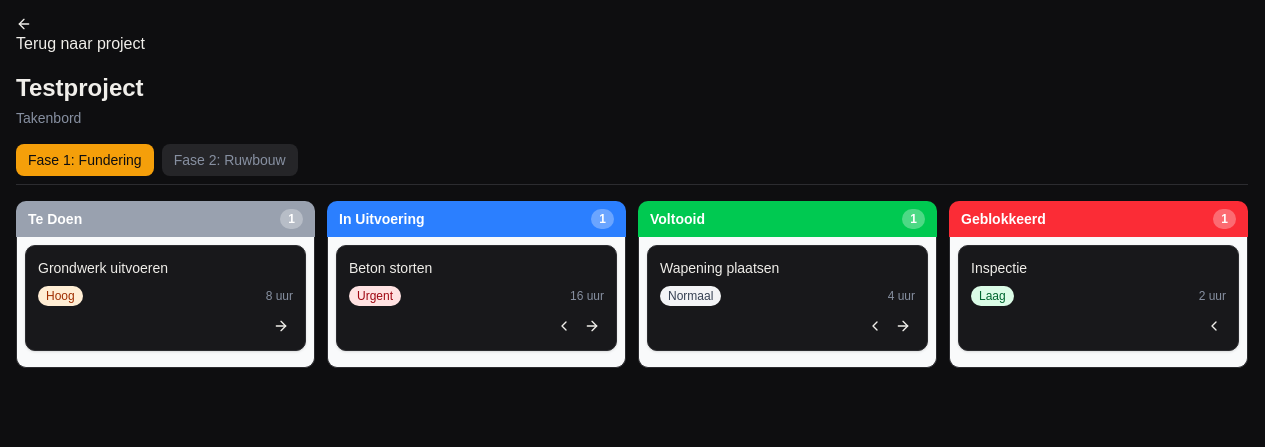
Test case: KanbanBoardPage › shows an error message when API move fails
Check: the text "Grondwerk uitvoeren" is shown, box [38, 260, 168, 276]
Click the button named "→ vooruit" below "Hoog" at (281, 326), box [269, 314, 293, 338]
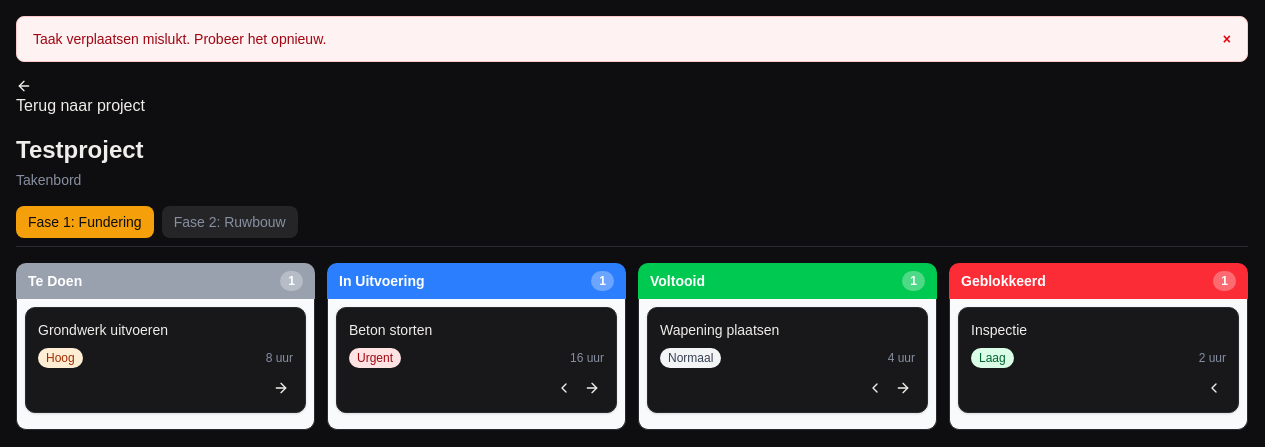
Check: the message "Taak verplaatsen mislukt. Probeer het opnieuw. ×" is shown, box [16, 16, 1248, 62]
